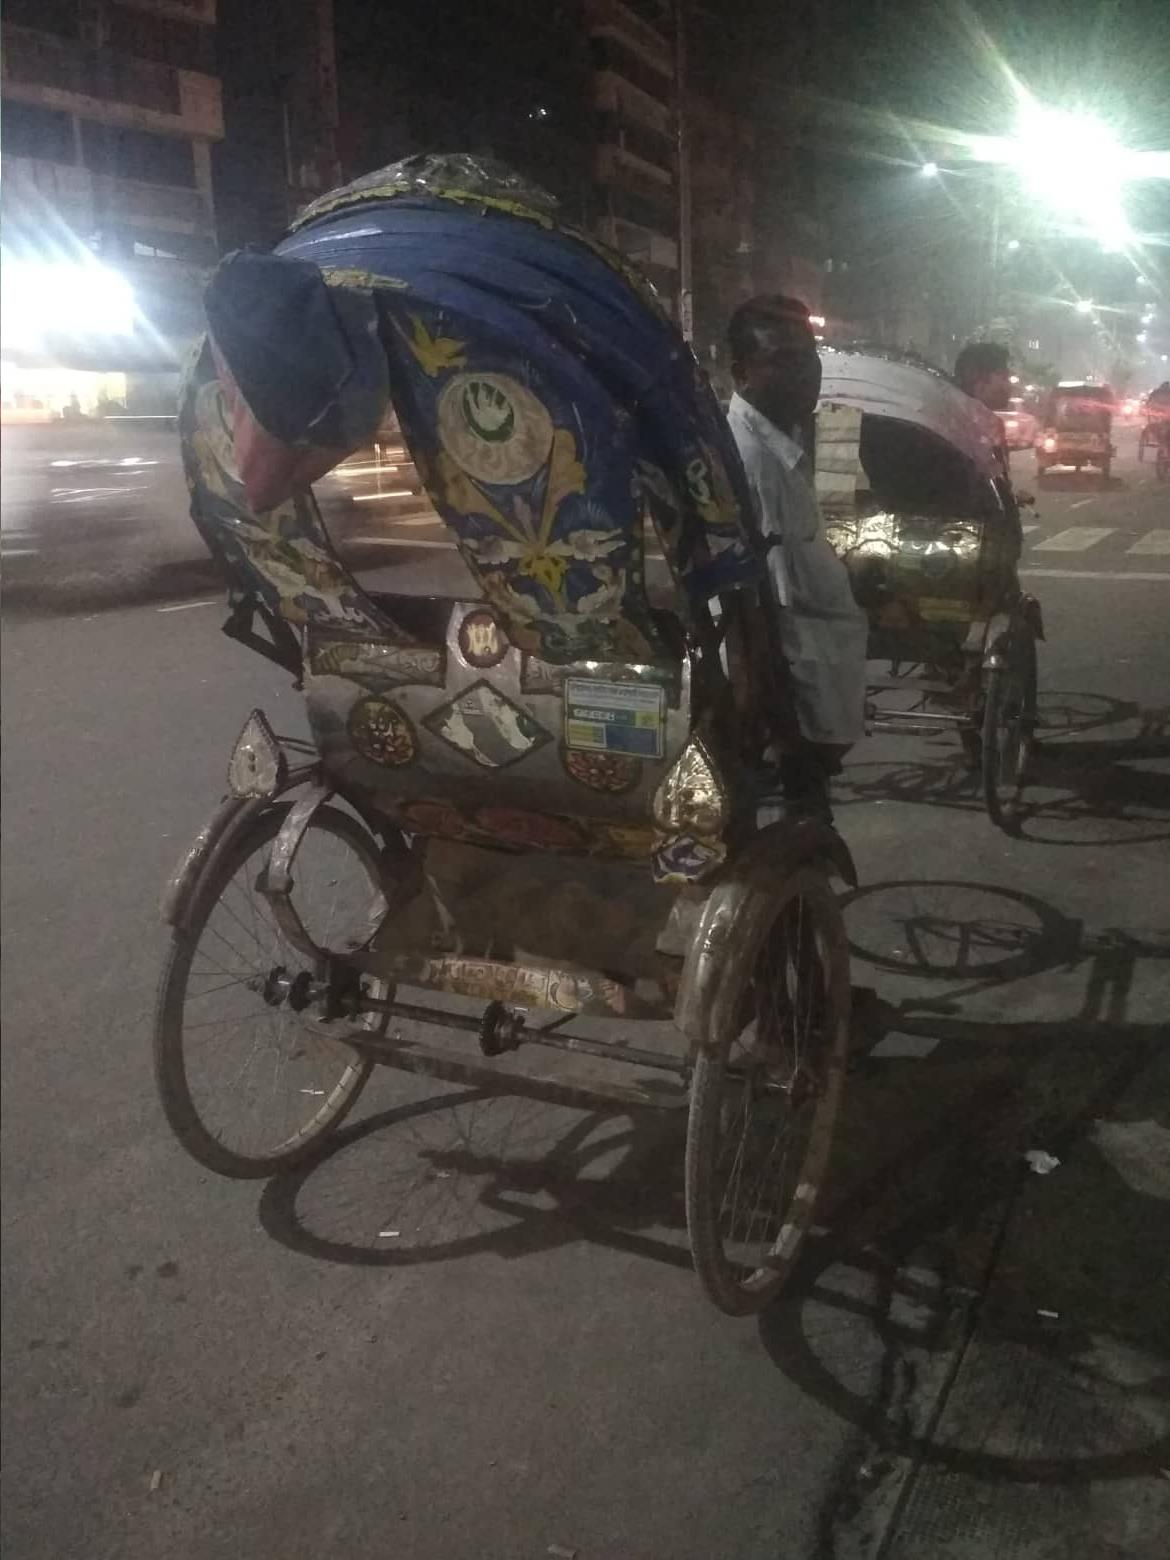Rickshaw: (116, 133, 890, 1375), (735, 81, 1112, 879)
